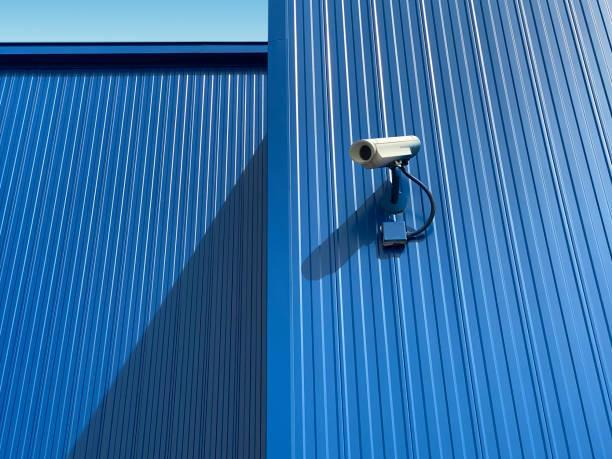camera: (337, 120, 444, 196)
